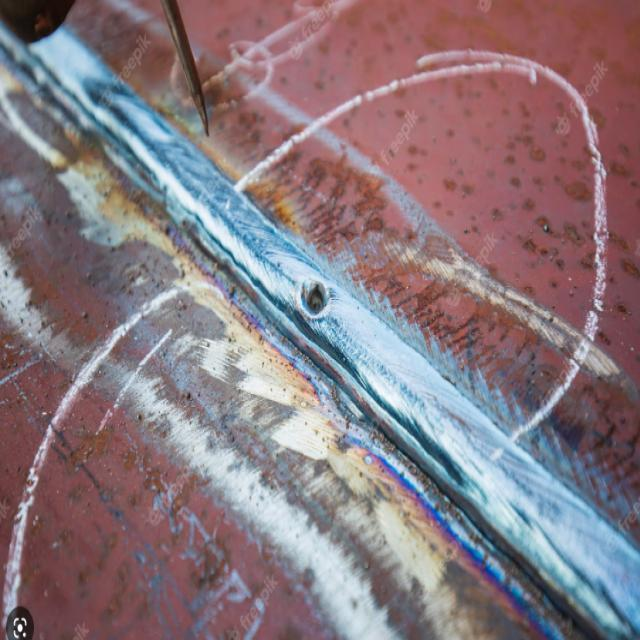defect: (300, 281, 331, 322)
